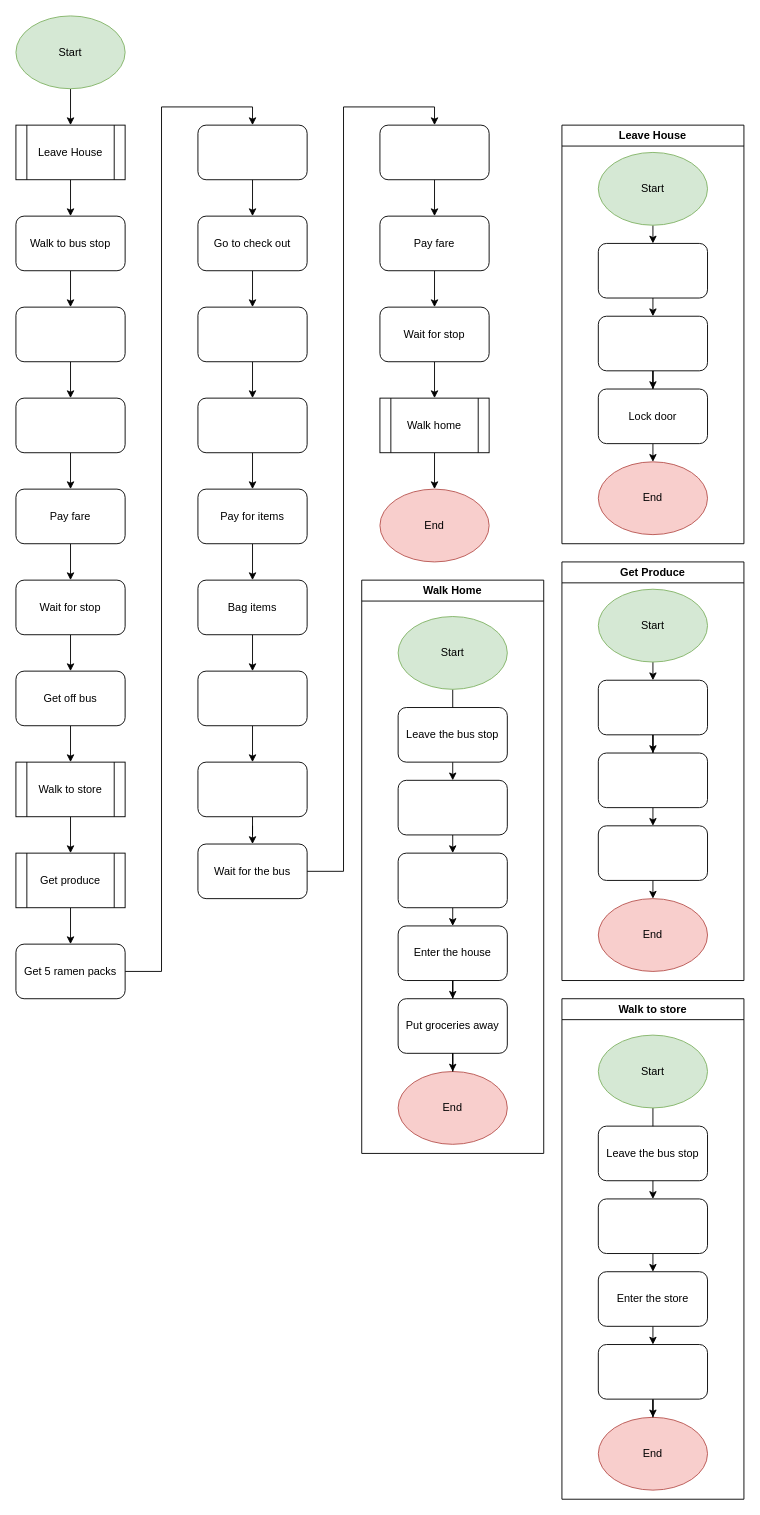
This 760x1515 diagram has some shape labels left out. Each missing label, with the centre of its shape:
Close door: (x=652, y=343)
Exit house: (x=652, y=270)
Exit Store: (x=252, y=698)
Get cookies: (x=252, y=152)
Get on bus: (x=70, y=425)
Get on the bus: (x=434, y=152)
Go to the bus stop: (x=252, y=789)
Grab a shopping cart: (x=652, y=1371)
Grab Bananas: (x=652, y=780)
Grab Carrots: (x=652, y=707)
Grab green onions: (x=652, y=852)
Unlock the door: (x=452, y=880)
Wait for bus: (x=70, y=334)
Wait for cashier to scan items: (x=252, y=425)
Wait in line: (x=252, y=334)
Walk to the house: (x=452, y=807)
Walk to the store: (x=652, y=1226)
